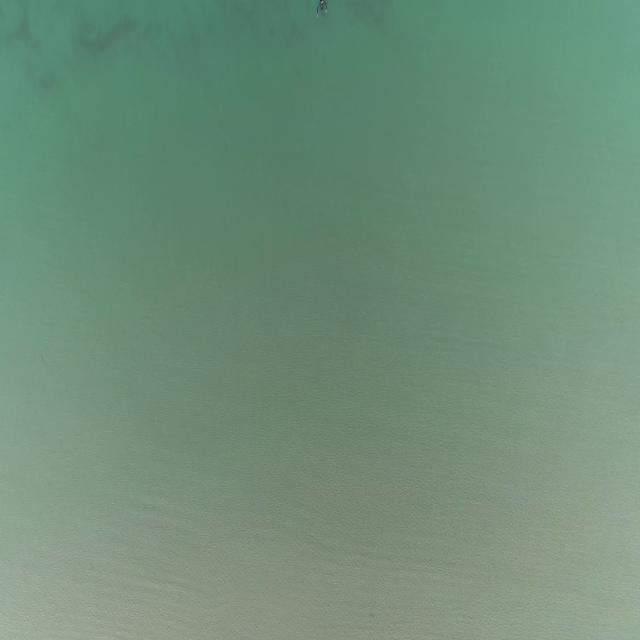person: (316, 0, 329, 19)
